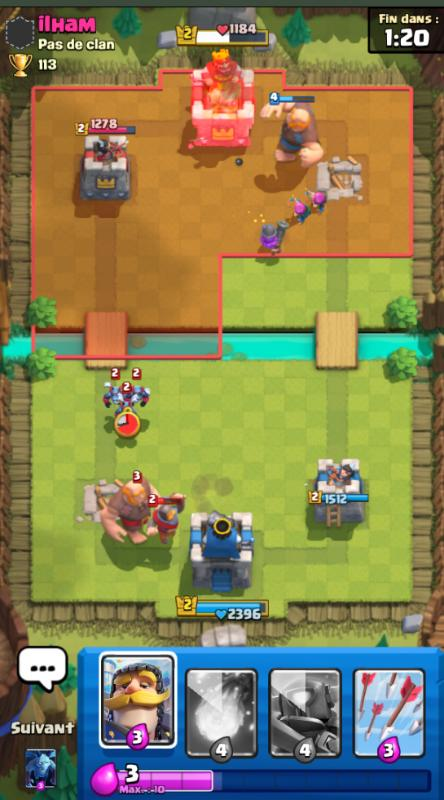archere: (287, 196, 313, 224), (304, 186, 330, 213)
chevalier: (147, 492, 187, 544)
gargouille: (100, 379, 126, 412), (128, 386, 154, 408), (111, 401, 140, 419)
geant: (99, 475, 166, 549), (264, 98, 326, 165)
mousquetaire: (260, 219, 289, 258)
